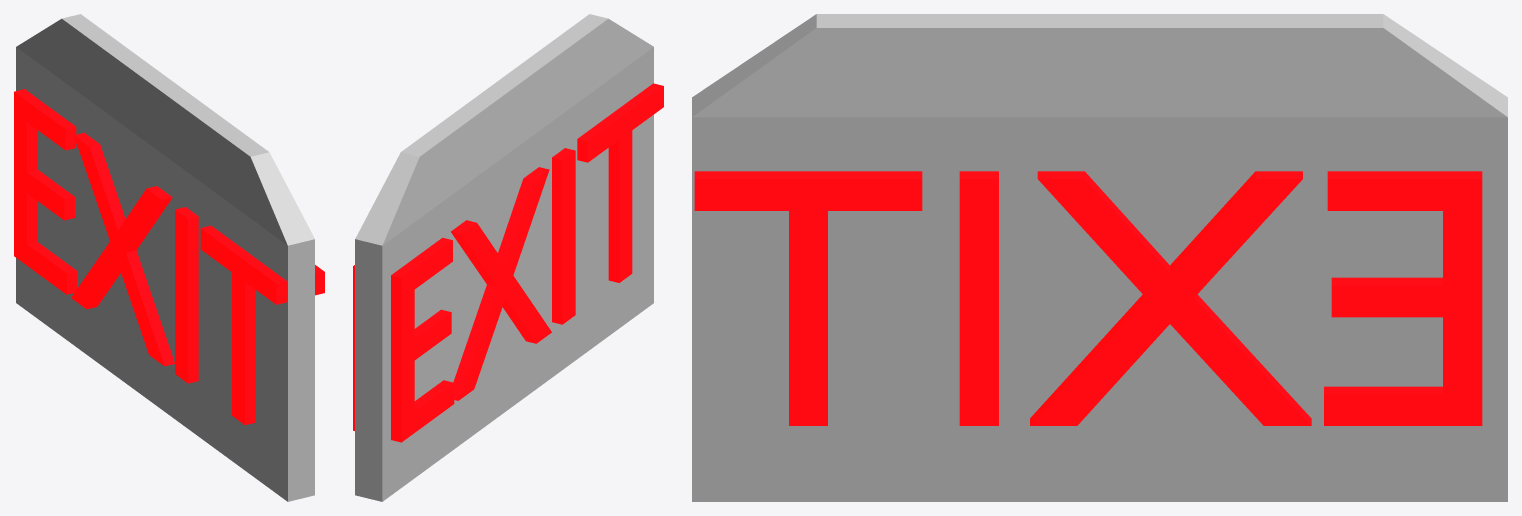
The model's file is Exit.glb.
The picture shows the model from 3 angles, left to right: view 1: azimuth 30°, elevation 25°; view 2: azimuth 150°, elevation 25°; view 3: azimuth 270°, elevation 25°; orthographic projection. The views are drawn at different scales.
Parts seen in each view (by area): view 1: Exit; view 2: Exit; view 3: Exit.
Part boxes in pixels (x1,y1,x2,y2): Exit: (14,14,324,501); Exit: (353,14,663,501); Exit: (692,14,1507,501).
Bounding box in the file's own units: 0.1359 × 0.8411 × 1.32.
